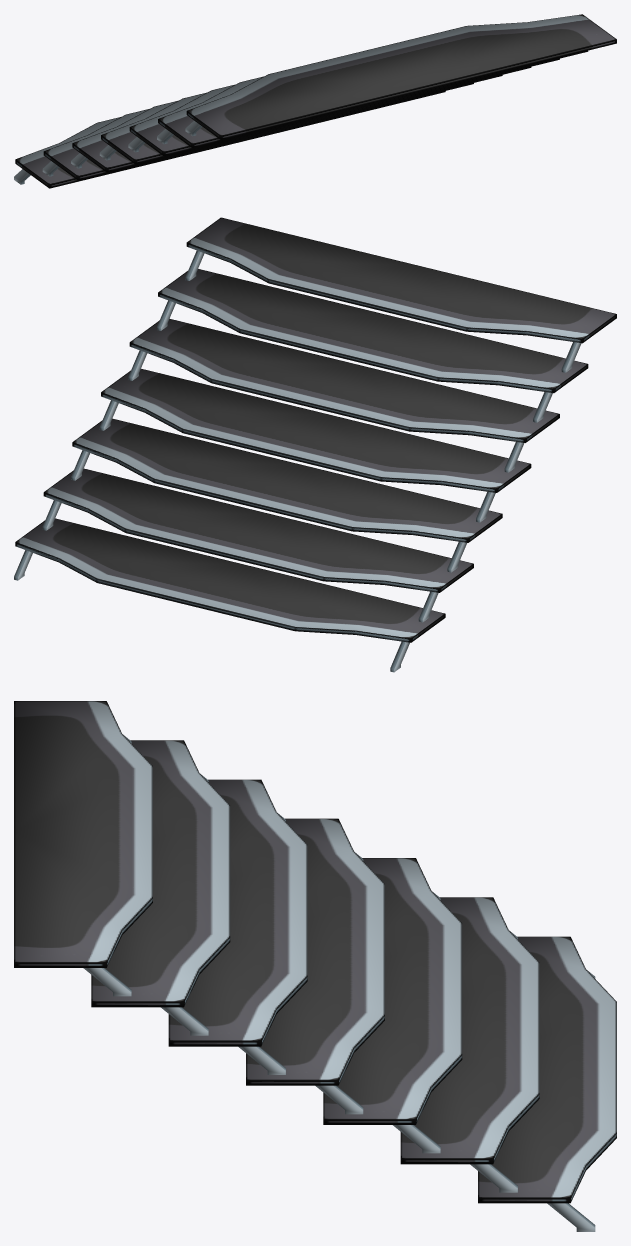
The model's file is FoldingBridgeStaircase.fbx.
The picture shows the model from 3 angles, top to bottom: view 1: azimuth 30°, elevation 25°; view 2: azimuth 150°, elevation 25°; view 3: azimuth 270°, elevation 25°; orthographic projection. The views are drawn at different scales.
Visible parts, largest first — view 1: FoldingBridgeStaircase; view 2: FoldingBridgeStaircase; view 3: FoldingBridgeStaircase.
Part boxes in pixels (x1,y1,x2,y2): FoldingBridgeStaircase: (14, 14, 616, 188); FoldingBridgeStaircase: (14, 217, 616, 672); FoldingBridgeStaircase: (14, 701, 616, 1231).
Size of the model in its own units: 4 by 1.96 by 3.9.
